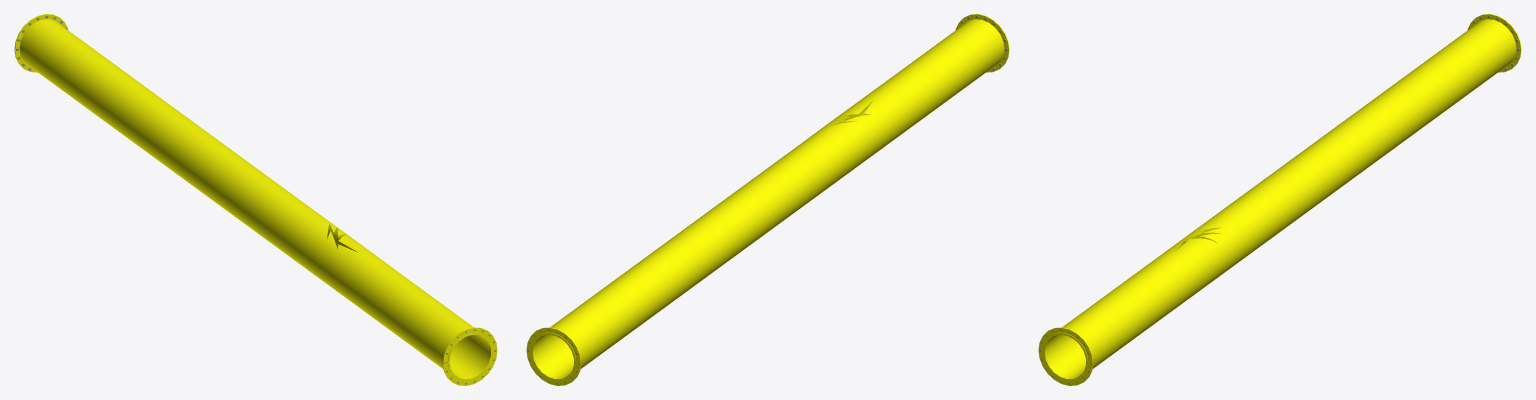
Rendered from fractured.obj.
The picture shows the model from 3 angles, left to right: view 1: azimuth 30°, elevation 25°; view 2: azimuth 150°, elevation 25°; view 3: azimuth 330°, elevation 25°; orthographic projection.
Visible parts, largest first — view 1: Pipe; view 2: Pipe; view 3: Pipe.
Part boxes in pixels (x1,y1,x2,y2): Pipe: (14,14,497,385); Pipe: (526,14,1009,385); Pipe: (1038,14,1521,385).
Bounding box in the file's own units: 0.7315 × 0.7241 × 10.
Materials: 2 (1 with a texture image).
